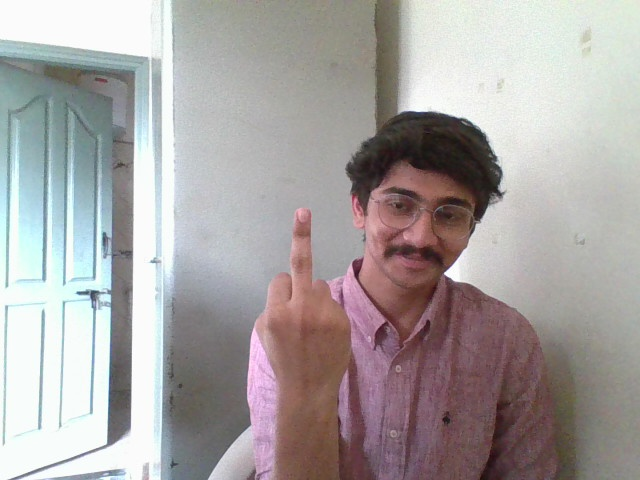Hate: (239, 194, 363, 412)
done: (233, 187, 369, 446)
